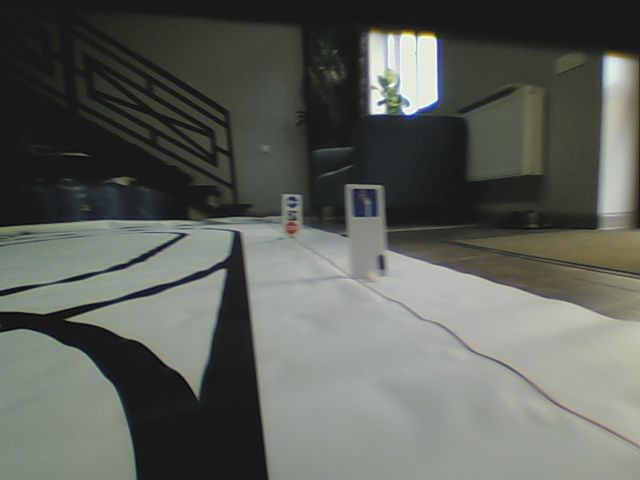priority_movement: (351, 188, 379, 218)
